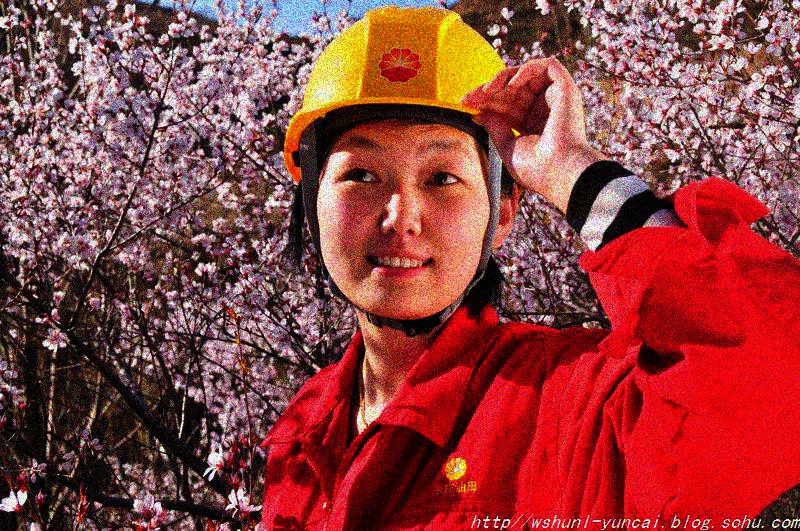helmet: (284, 5, 525, 319)
